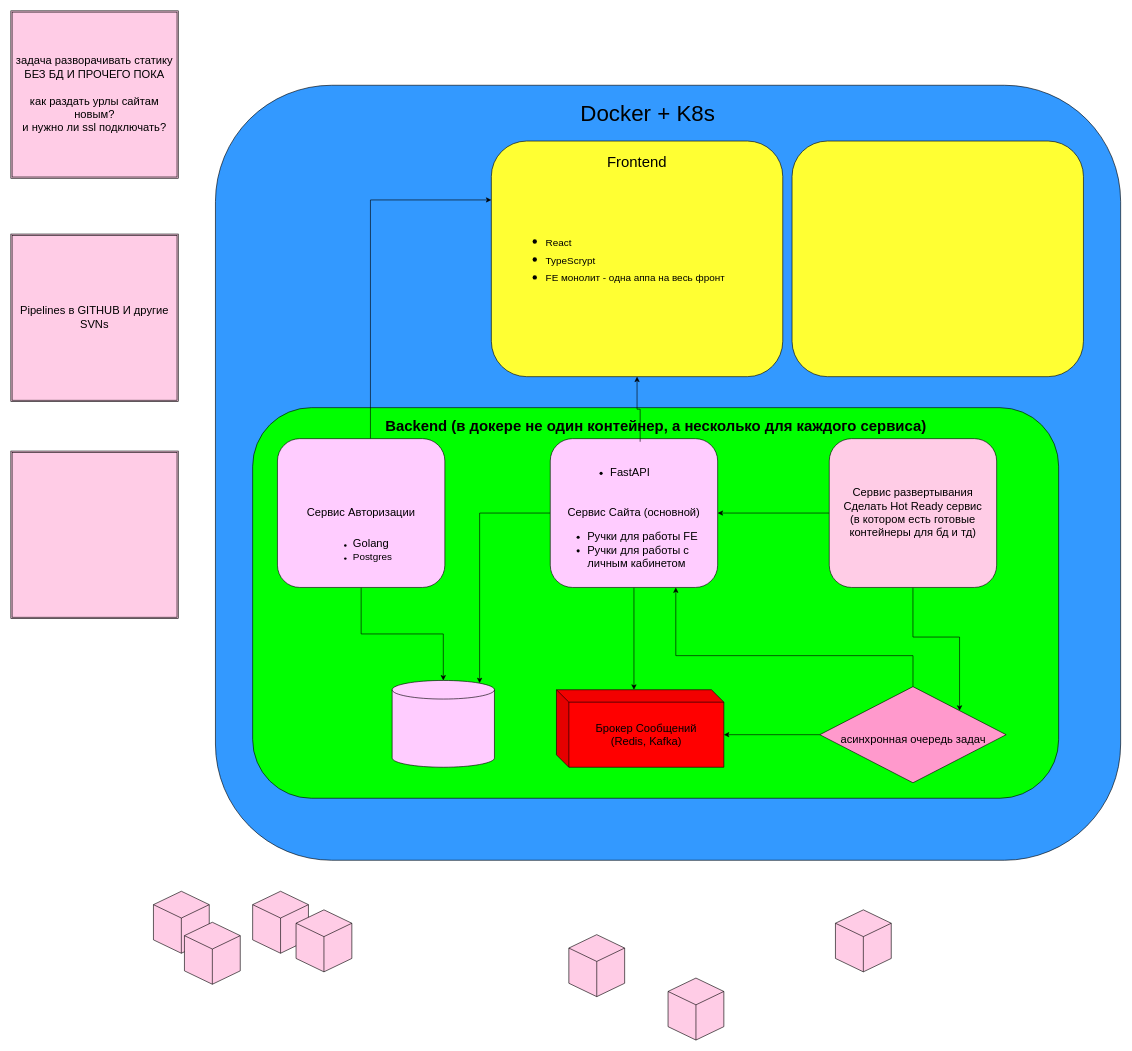
The diagram is 1132 pixels wide and 1051 high, and some of its shapes have lost their labels. The shapes that lost their labels are listed below. From the top down, each one's box as (x1, y1, x2, y2) in pixels, then its label:
(791, 140, 1083, 377): Нужен ли нам отдельный сервис для админки или нет? ДЛЯ FE И BE актуально
(10, 450, 178, 618): + Юнит Тестирования
(392, 680, 494, 767): Postgres
